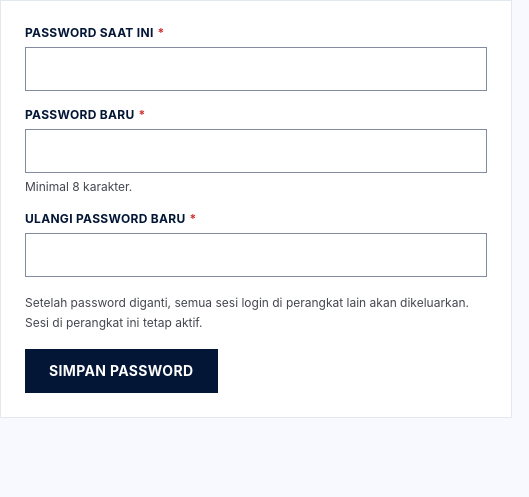
ChangePasswordForm › shows the API error message when the current password is wrong
Type "salah" into the password field labelled "Password Saat Ini*" at [256, 69], box [25,47,487,91]
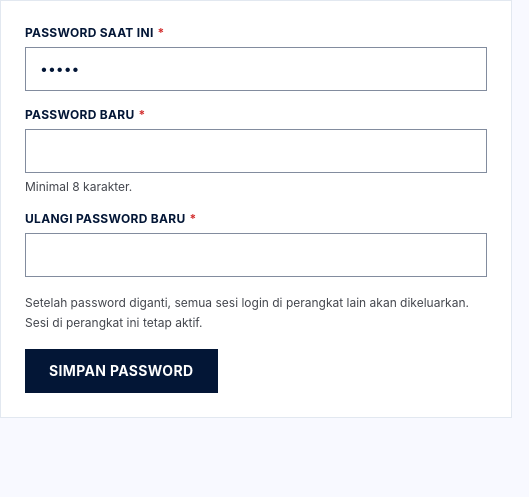
Type "passwordbaru123" into the password field labelled "Password Baru*" at [256, 151], box [25,129,487,173]
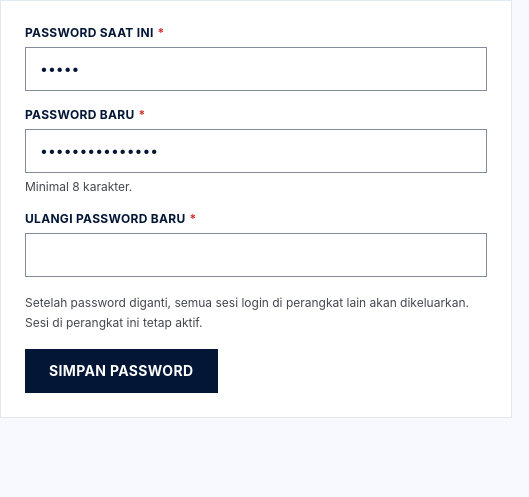
Type "passwordbaru123" into the password field labelled "Ulangi Password Baru*" at [256, 255], box [25,233,487,277]
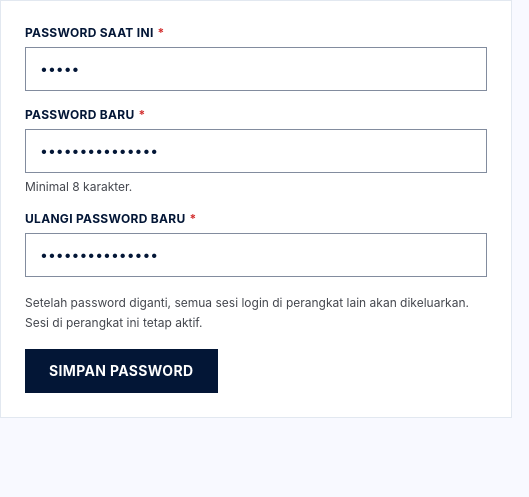
Click the button "Simpan Password" at [121, 371], box [25,349,218,393]
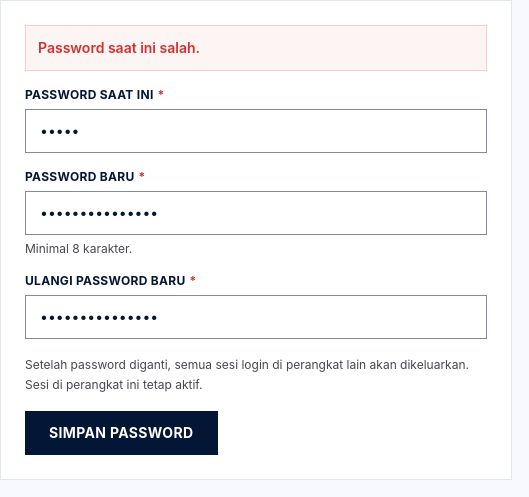
Now the text "Password saat ini salah." is shown, box [25,25,487,71]
